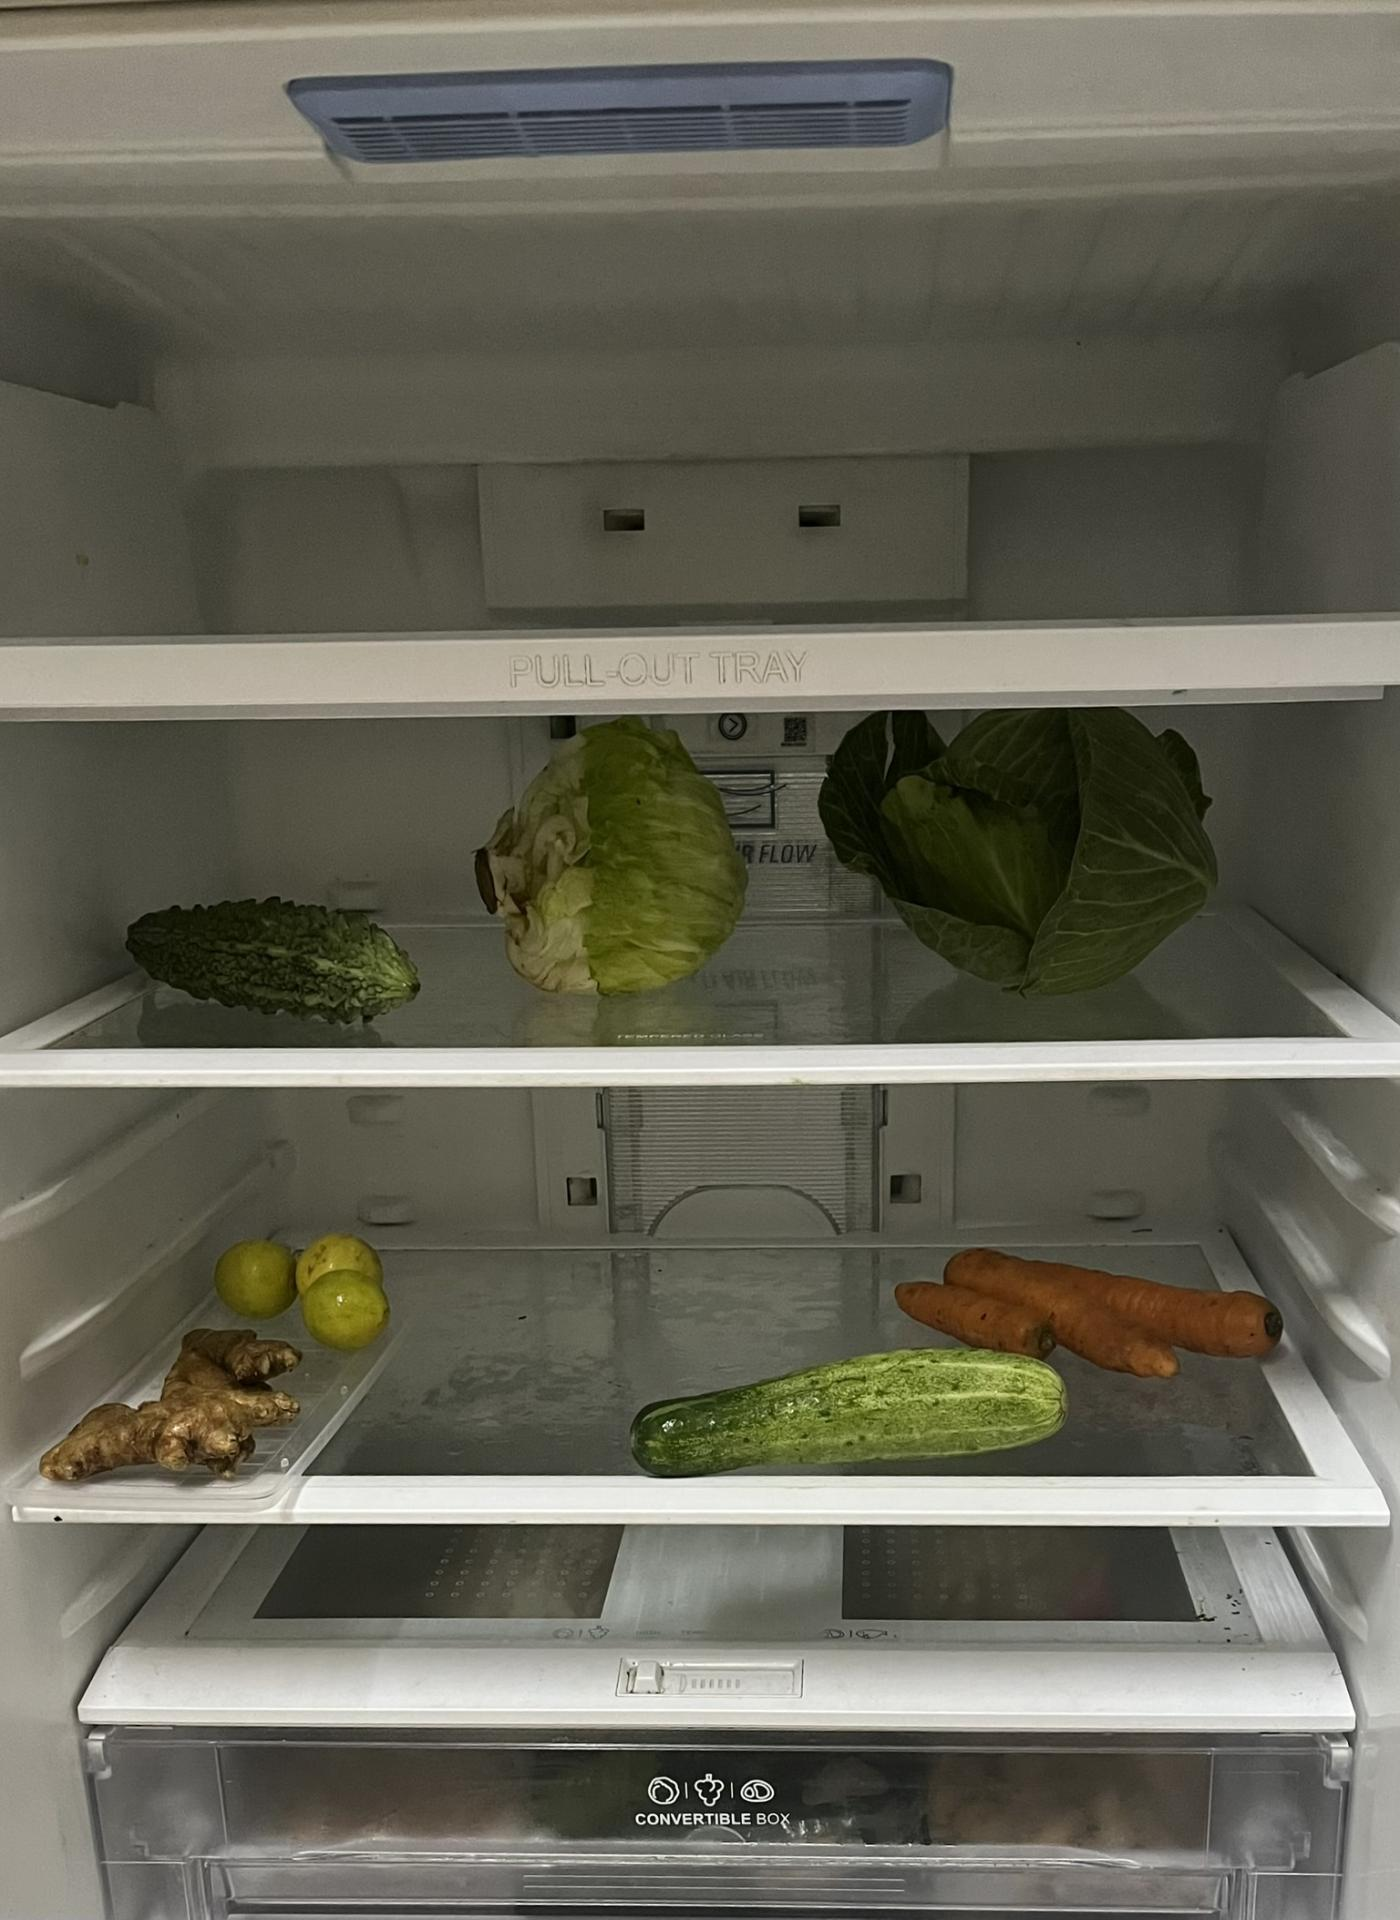bitter gourd: (134, 900, 428, 1029)
cabbage: (832, 704, 1230, 1003)
carrots: (893, 1254, 1282, 1371)
cucumber: (632, 1351, 1066, 1471)
ginger: (55, 1337, 295, 1491)
lemon: (213, 1234, 383, 1340)
lettuce: (477, 724, 747, 997)
